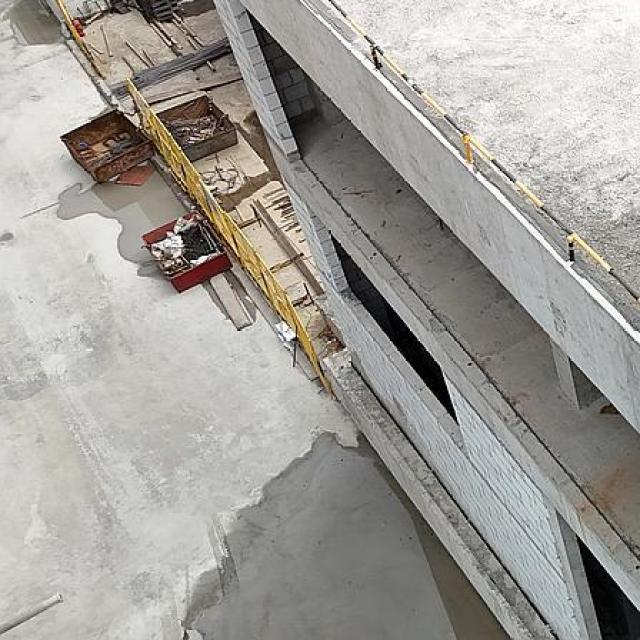edge_guardrail: (327, 0, 640, 301)
